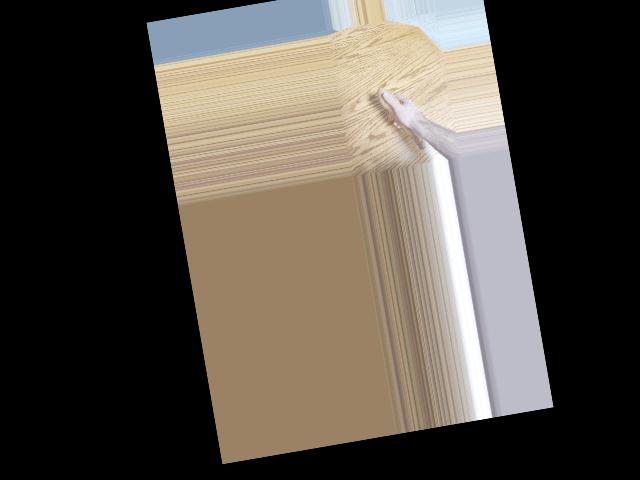sweet_potato: (375, 80, 429, 167)
